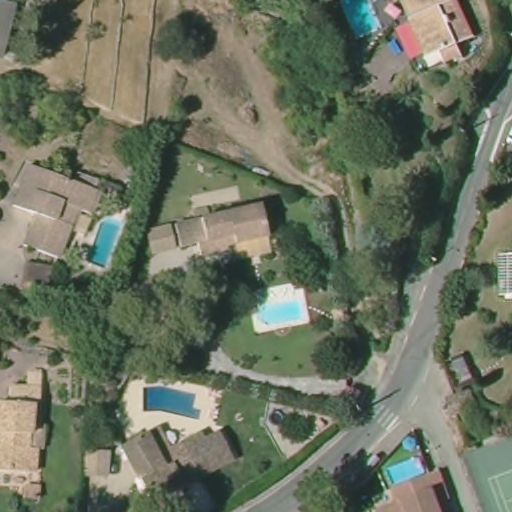pool: (138, 379, 209, 425), (250, 294, 312, 331), (86, 217, 125, 275), (339, 1, 383, 43), (379, 454, 430, 487)
